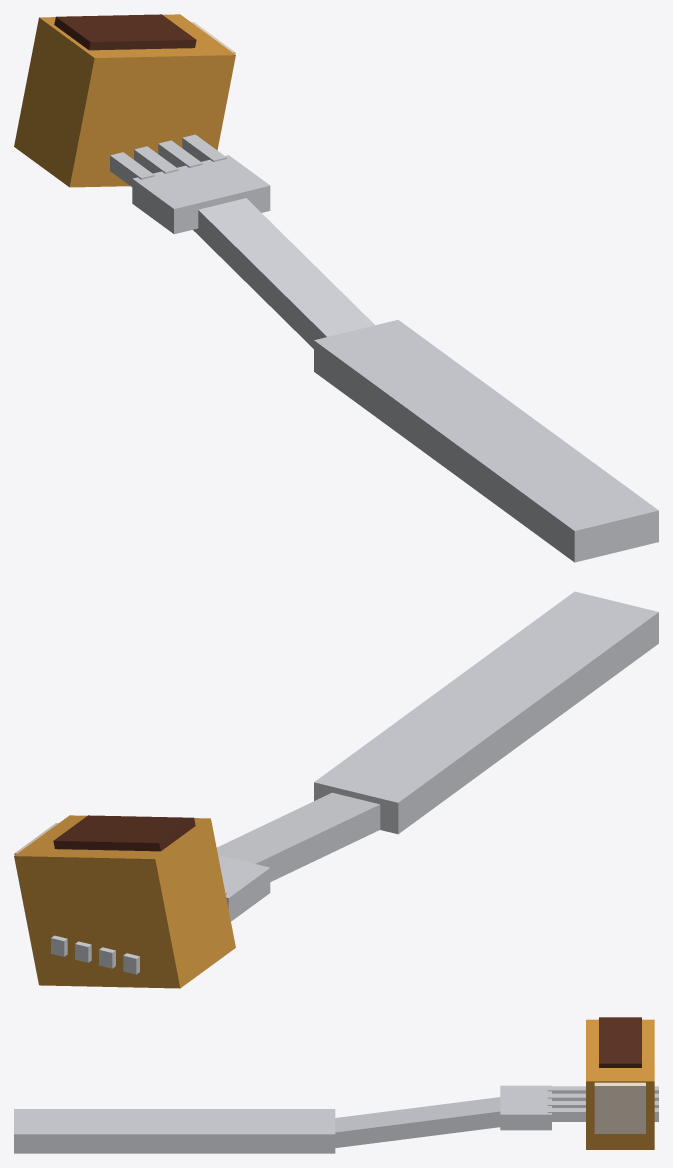
File: cine_fork.glb
3 renders of one model, top to bottom at view 1: azimuth 30°, elevation 25°; view 2: azimuth 150°, elevation 25°; view 3: azimuth 270°, elevation 25°, orthographic. The views are drawn at different scales.
Parts seen in each view (by area): view 1: cine_fork_silver, cine_fork_katsu, cine_fork_sauce_fine, cine_fork_silver_detail; view 2: cine_fork_silver, cine_fork_katsu, cine_fork_sauce_fine, cine_fork_silver_detail; view 3: cine_fork_silver, cine_fork_katsu, cine_fork_katsu_in_fine, cine_fork_sauce_fine, cine_fork_silver_detail.
Boxes of the visible parts, box(x1,y1,x2,y2) form: cine_fork_silver: box(132, 155, 658, 562); cine_fork_katsu: box(14, 14, 235, 187); cine_fork_sauce_fine: box(54, 14, 196, 50); cine_fork_silver_detail: box(110, 134, 226, 186); cine_fork_silver: box(216, 591, 658, 921); cine_fork_katsu: box(14, 815, 235, 988); cine_fork_sauce_fine: box(53, 815, 195, 851); cine_fork_silver_detail: box(51, 892, 226, 974); cine_fork_silver: box(14, 1085, 551, 1153); cine_fork_katsu: box(586, 1019, 654, 1149); cine_fork_katsu_in_fine: box(594, 1082, 645, 1133); cine_fork_sauce_fine: box(599, 1017, 641, 1067); cine_fork_silver_detail: box(547, 1086, 658, 1121).
Size of the model in its own units: 0.0288 by 0.0285 by 0.1505.
